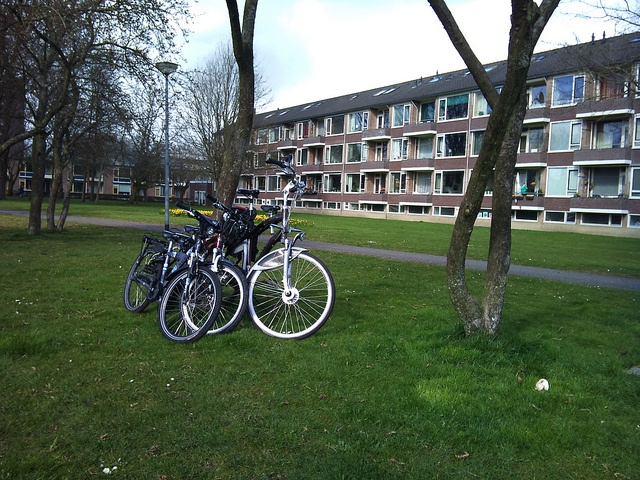non-vehicle: (248, 157, 337, 338), (124, 207, 220, 345), (174, 201, 248, 335)
